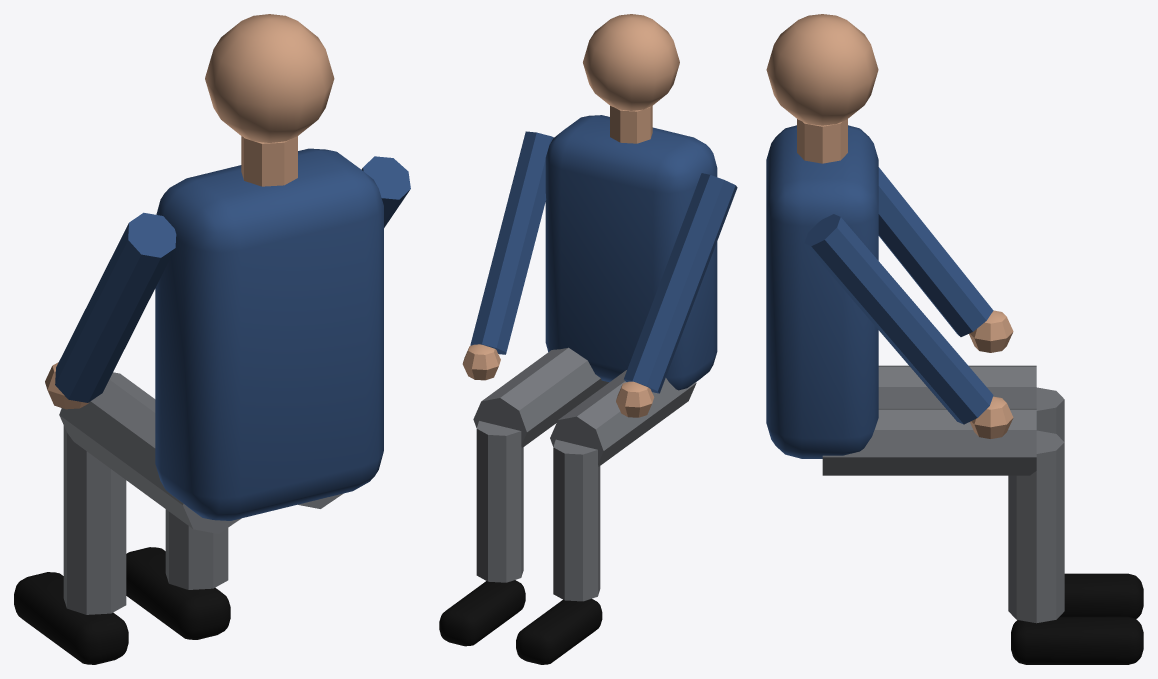
File: people.staff.pupil.glb
The picture shows the model from 3 angles, left to right: view 1: azimuth 30°, elevation 25°; view 2: azimuth 150°, elevation 25°; view 3: azimuth 270°, elevation 25°; orthographic projection. The views are drawn at different scales.
Parts seen in each view (by area): view 1: main__fabric_blue, main__fabric_grey, main__skin, main__plastic_black; view 2: main__fabric_blue, main__fabric_grey, main__skin, main__plastic_black; view 3: main__fabric_blue, main__fabric_grey, main__skin, main__plastic_black.
Boxes of the visible parts, x1,y1,x2,y2 form: main__fabric_blue: [55, 148, 410, 520]; main__fabric_grey: [59, 372, 343, 614]; main__skin: [45, 14, 334, 409]; main__plastic_black: [14, 547, 230, 664]; main__fabric_blue: [470, 115, 737, 393]; main__fabric_grey: [473, 347, 696, 601]; main__skin: [462, 14, 679, 417]; main__plastic_black: [439, 580, 602, 664]; main__fabric_blue: [766, 125, 993, 458]; main__fabric_grey: [822, 365, 1064, 623]; main__skin: [766, 14, 1013, 438]; main__plastic_black: [1011, 573, 1143, 664].
Size of the model in its own units: 0.4239 by 1.03 by 0.5709.
